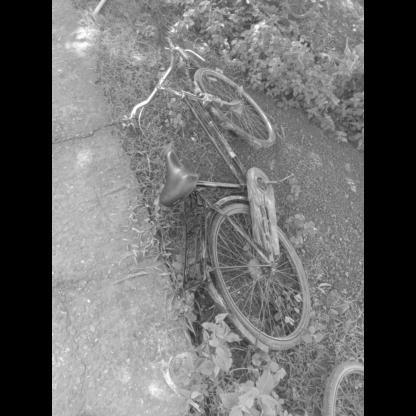Bicycle: (123, 30, 328, 366)
